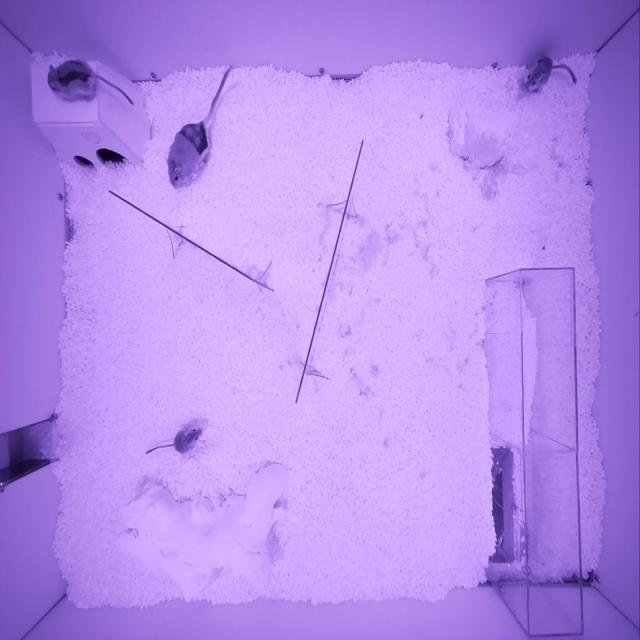adult_back: (164, 122, 210, 188)
pup_fluffy: (174, 427, 202, 453)
pup_spotted: (523, 56, 552, 91)
pup_v_stripe: (46, 59, 96, 103)
